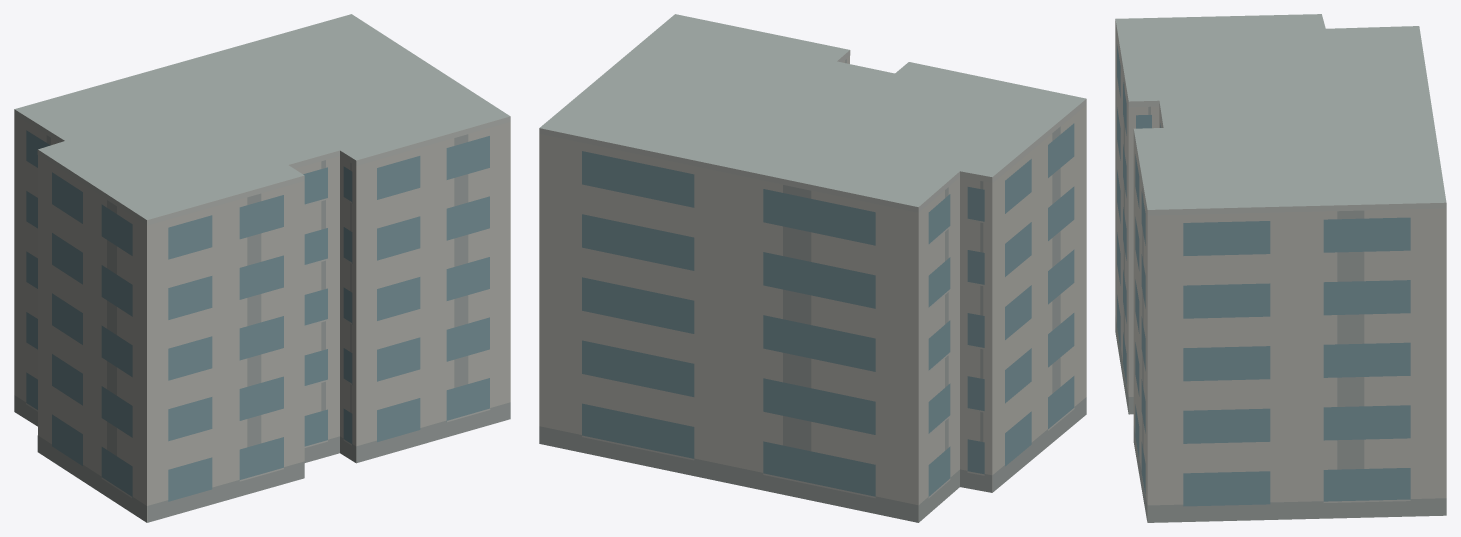
The model's file is survey-upis-32874603.glb.
3 renders of one model, left to right at view 1: azimuth 30°, elevation 25°; view 2: azimuth 150°, elevation 25°; view 3: azimuth 270°, elevation 25°, orthographic. The views are drawn at different scales.
Parts seen in each view (by area): view 1: survey-upis-32874603.tmp; view 2: survey-upis-32874603.tmp; view 3: survey-upis-32874603.tmp.
Boxes of the visible parts, x1,y1,x2,y2 form: survey-upis-32874603.tmp: (14,14,510,522); survey-upis-32874603.tmp: (539,14,1086,522); survey-upis-32874603.tmp: (1115,14,1446,522).
Bounding box in the file's own units: 17.6 × 13.1 × 12.57.
